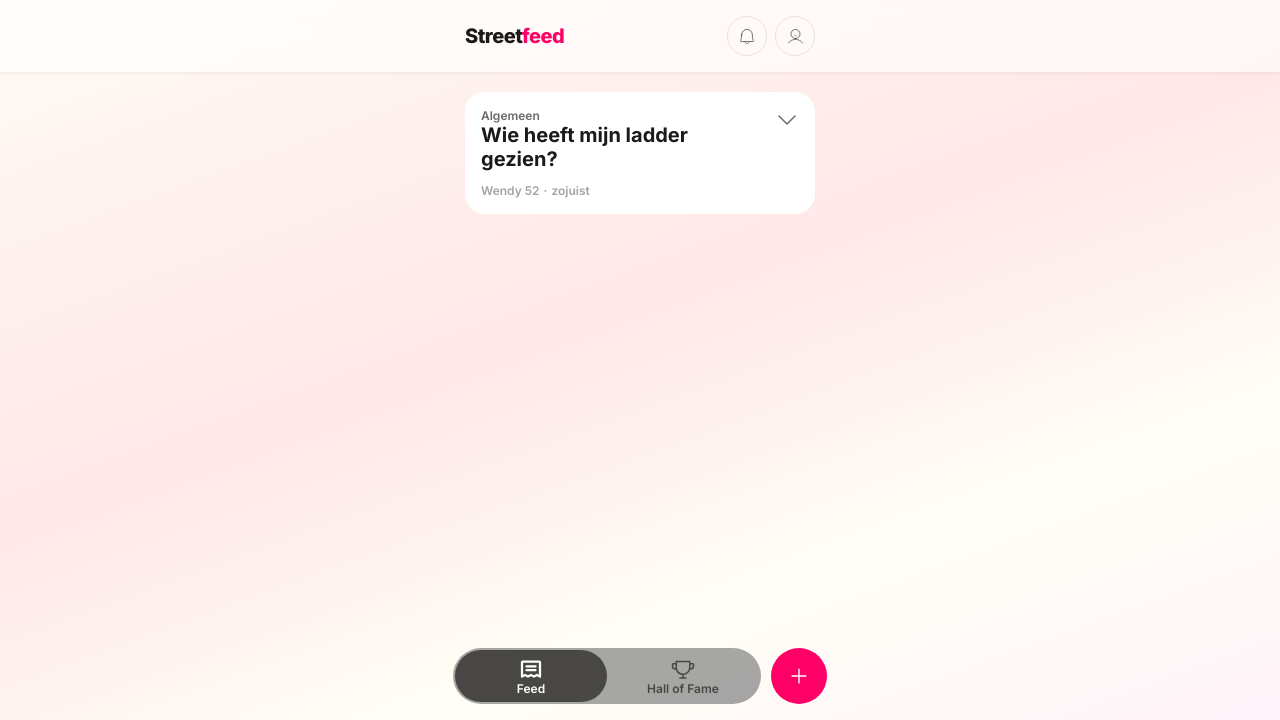
Scenario: Feed & Comments smoke test (M2 DoD) › loads the feed, expands a post, and posts a comment that appears
Expected: the text "Wie heeft mijn ladder gezien?" is shown, x1=481 y1=123 x2=688 y2=171
Expected: the text "Stond gisteren nog tegen de schutting." is not shown
# Post card expands
Click the button "Algemeen Wie heeft mijn ladder gezien? Wendy 52 · zojuist": (510, 116) x1=481 y1=108 x2=799 y2=198
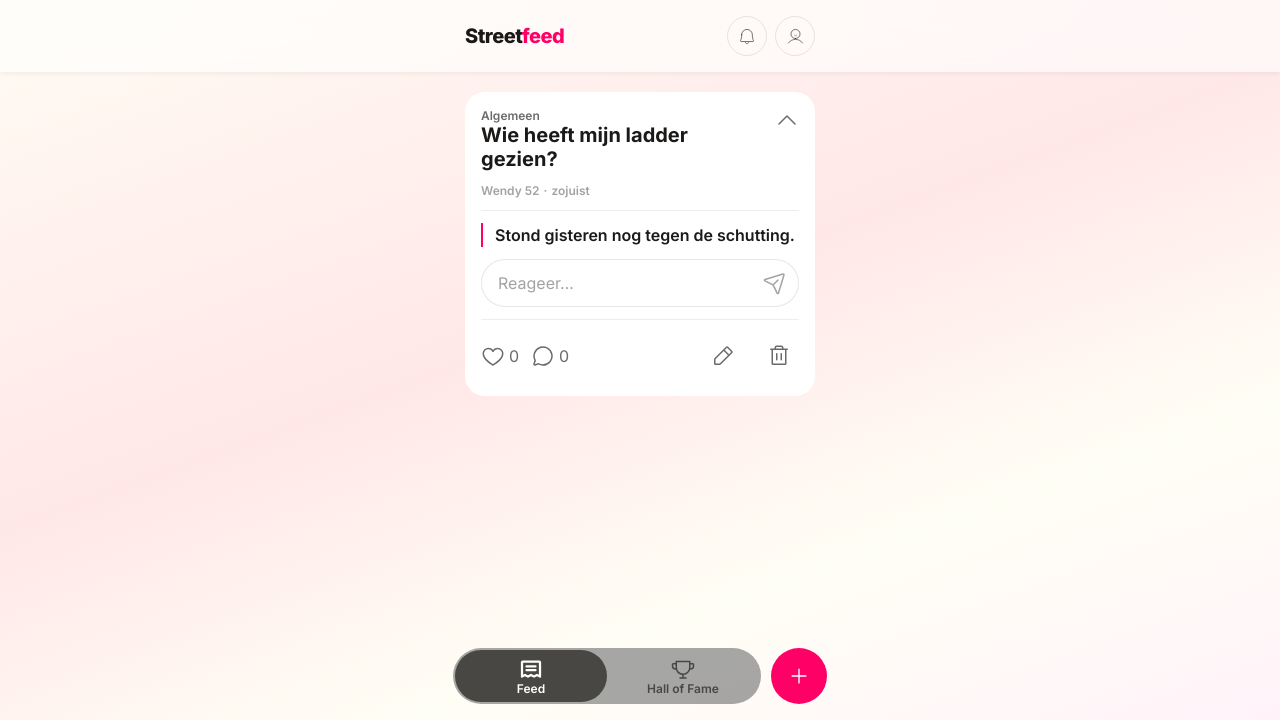
Result: the text "Stond gisteren nog tegen de schutting." is shown at x1=481 y1=223 x2=799 y2=247
# Comment can be posted and appears
In the field with placeholder "Reageer…": (640, 283) x1=481 y1=259 x2=799 y2=307, type "Ik heb hem gezien bij nr. 12!"
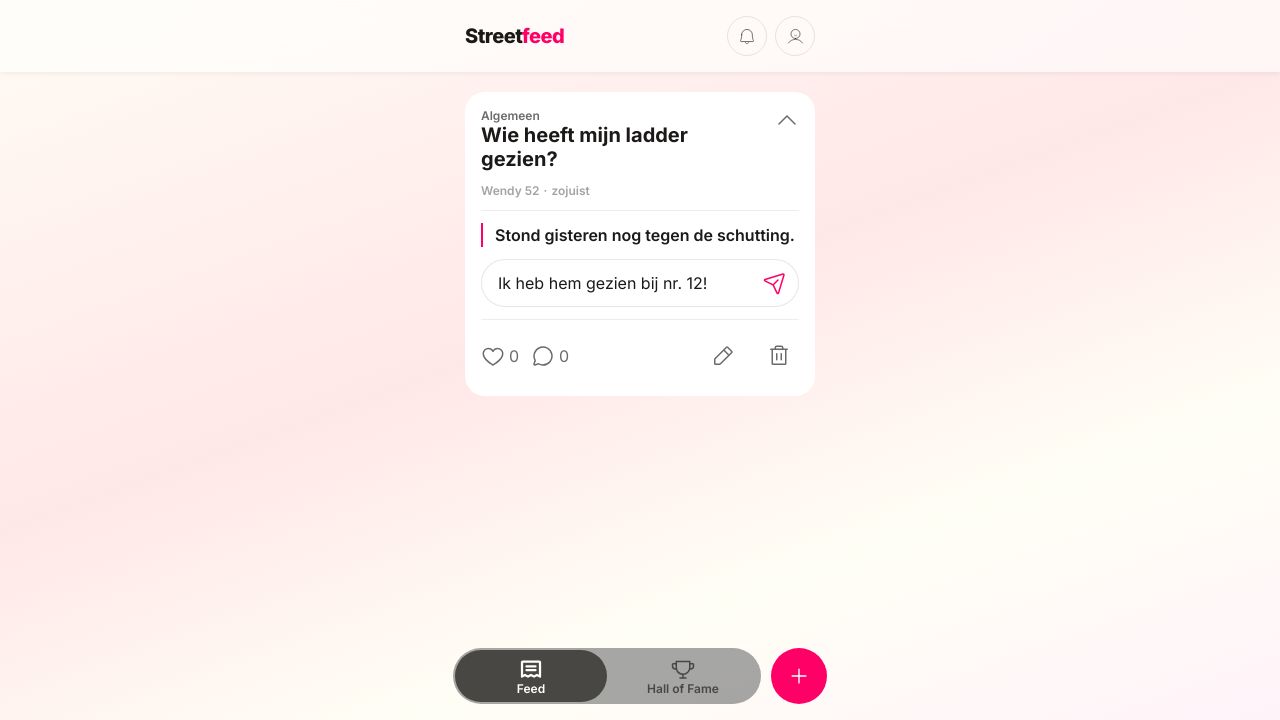
Click the button named "Stuur": (775, 283) x1=763 y1=271 x2=787 y2=295
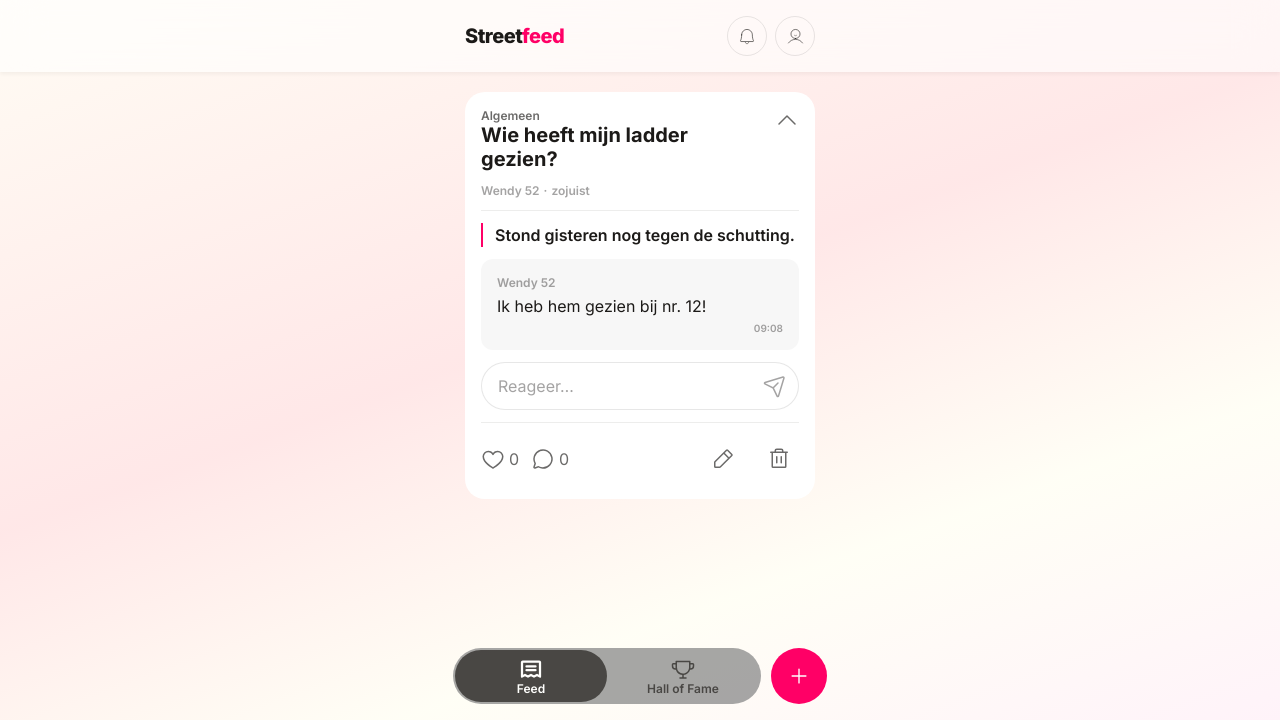
Result: the text "Ik heb hem gezien bij nr. 12!" is shown at x1=497 y1=296 x2=706 y2=316
